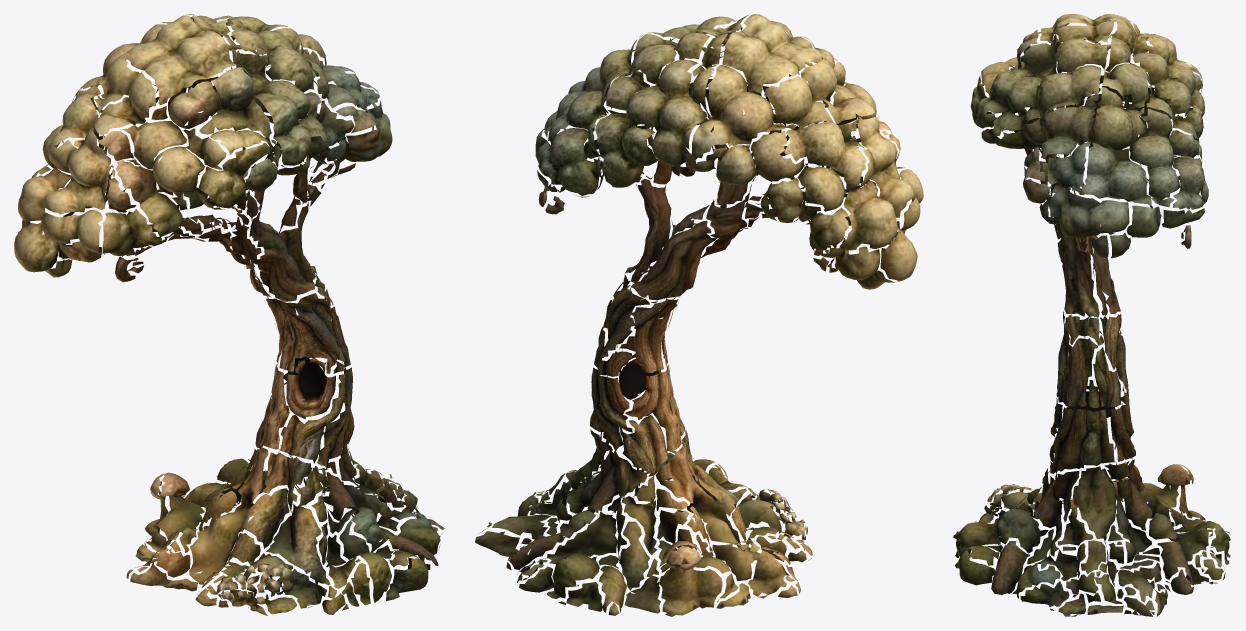
The model's file is stylized-tree-game.glb.
3 renders of one model, left to right at view 1: azimuth 30°, elevation 25°; view 2: azimuth 150°, elevation 25°; view 3: azimuth 270°, elevation 25°, orthographic. The views are drawn at different scales.
Visible parts, largest first — view 1: stylized_tree_optimized; view 2: stylized_tree_optimized; view 3: stylized_tree_optimized.
Boxes of the visible parts, <box> form: stylized_tree_optimized: <box>14,14,444,615</box>; stylized_tree_optimized: <box>475,14,923,616</box>; stylized_tree_optimized: <box>952,14,1230,616</box>.
Bounding box in the file's own units: 0.7666 × 0.9811 × 0.4993.
1 material, 1 textured.
